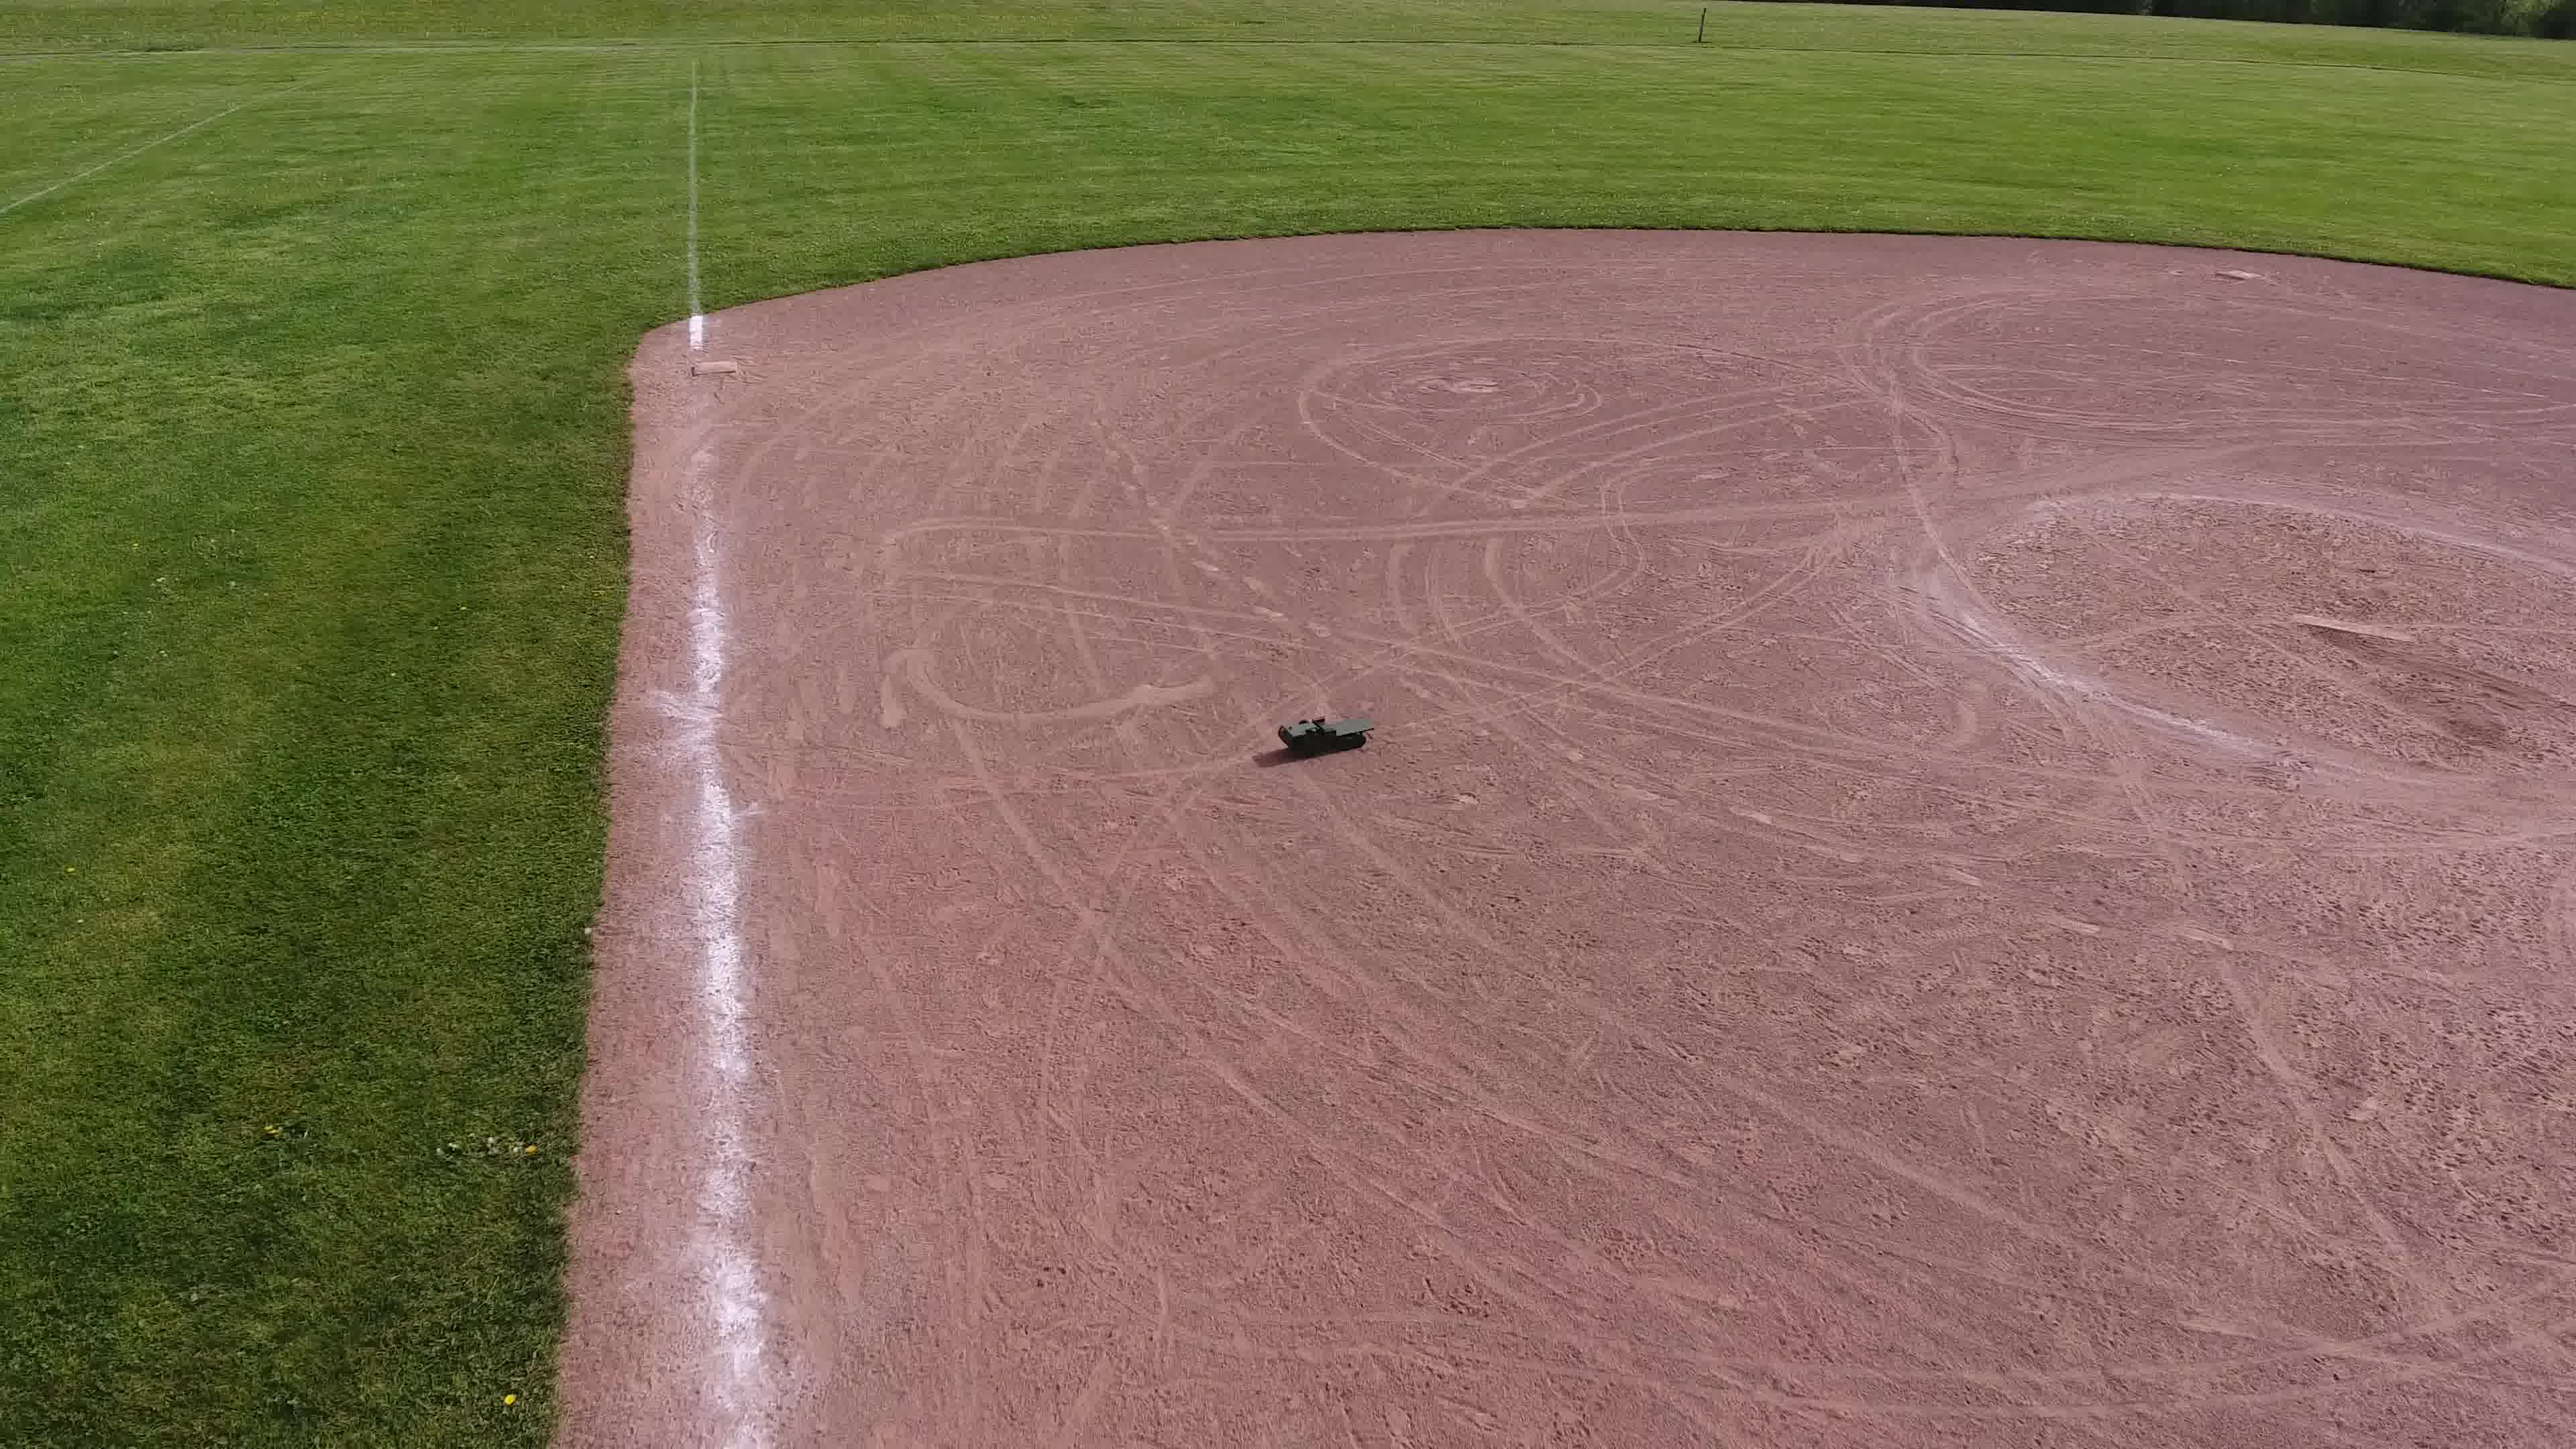transporter9: (1276, 708, 1378, 759)
